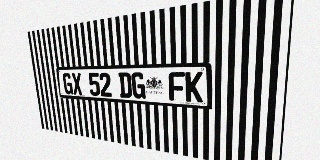2: (99, 73, 112, 97)
5: (88, 73, 101, 96)
D: (118, 72, 132, 98)
F: (168, 72, 185, 101)
G: (131, 72, 146, 99), (62, 73, 73, 95)
K: (185, 72, 203, 102)
X: (71, 73, 83, 95)
